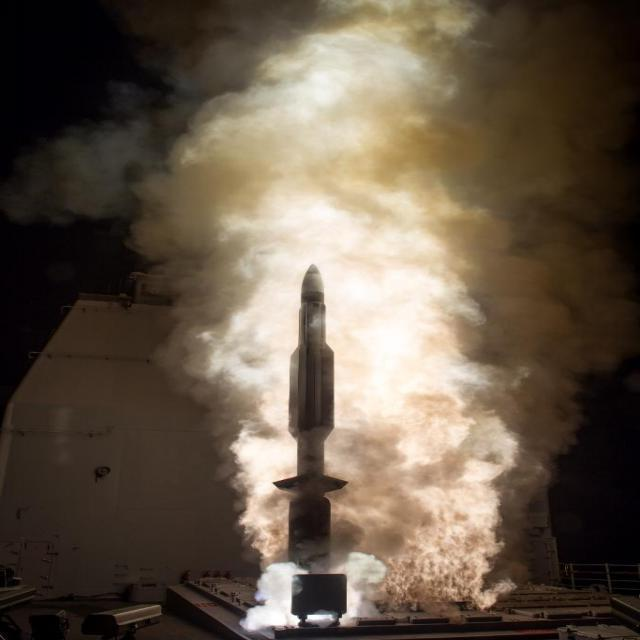missile: (280, 262, 358, 566)
